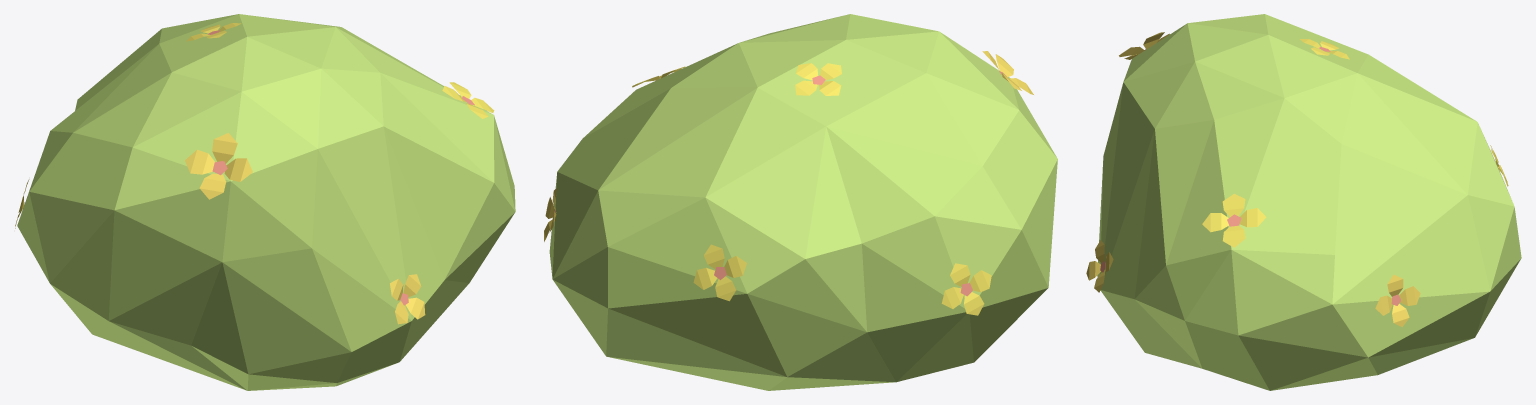
The model's file is FlowerBush_a_l_05.fbx.
3 views of the same model, side by side, from view 1: azimuth 30°, elevation 25°; view 2: azimuth 150°, elevation 25°; view 3: azimuth 270°, elevation 25° (orthographic). The views are drawn at different scales.
Parts seen in each view (by area): view 1: FlowerBush_a_l_05_LOD0; view 2: FlowerBush_a_l_05_LOD0; view 3: FlowerBush_a_l_05_LOD0.
Boxes of the visible parts, box(x1,y1,x2,y2) form: FlowerBush_a_l_05_LOD0: box(15, 14, 515, 390); FlowerBush_a_l_05_LOD0: box(544, 14, 1057, 390); FlowerBush_a_l_05_LOD0: box(1086, 14, 1521, 390).
Size of what is drawn, in the model's own units: 336 by 238 by 301.
